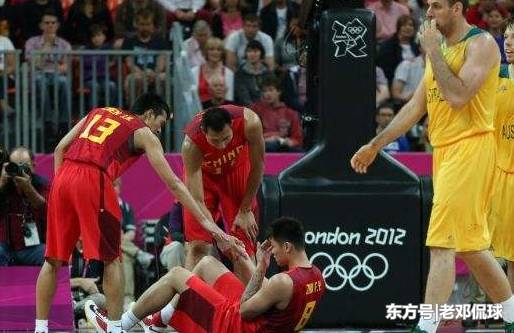10+: (1, 1, 513, 333)
down: (80, 213, 327, 333)
